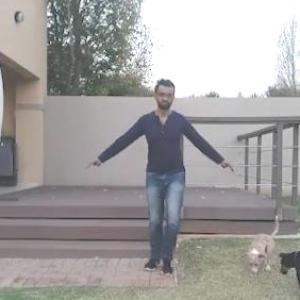land: (81, 87, 231, 258)
